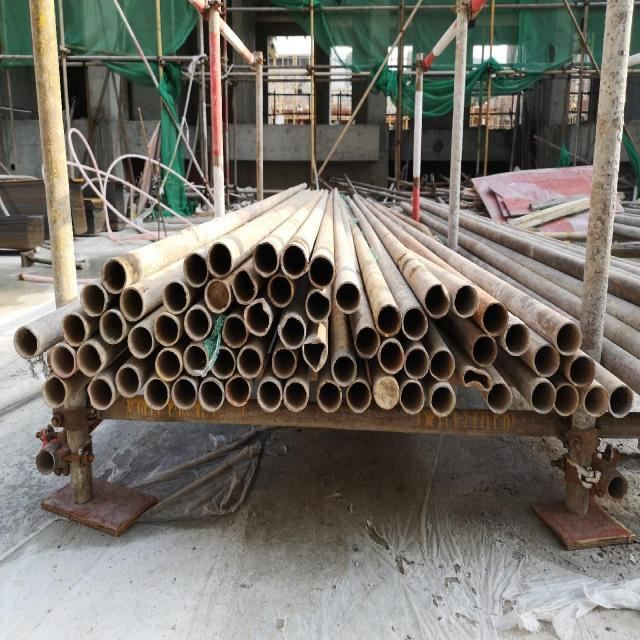pipe: (276, 311, 306, 350), (280, 242, 310, 280), (242, 298, 270, 338), (152, 346, 182, 383), (566, 352, 596, 389), (230, 266, 258, 305), (78, 281, 108, 317), (206, 239, 233, 279), (99, 257, 128, 294), (376, 336, 404, 374), (74, 341, 104, 376), (48, 341, 76, 378), (126, 322, 154, 359), (203, 277, 231, 314), (183, 305, 211, 342), (220, 312, 248, 349), (301, 337, 329, 374), (502, 320, 530, 357), (196, 377, 225, 412), (402, 303, 428, 342), (39, 372, 67, 408), (60, 311, 88, 347), (141, 375, 169, 411), (152, 312, 180, 348), (181, 341, 209, 377), (250, 241, 278, 277), (344, 378, 372, 414), (532, 342, 560, 378), (528, 378, 556, 414), (554, 320, 582, 356), (98, 308, 125, 345), (308, 253, 335, 290), (424, 282, 451, 319), (481, 300, 508, 337), (399, 377, 425, 415), (85, 375, 114, 409), (11, 325, 39, 360), (114, 363, 142, 398), (161, 279, 189, 314), (266, 273, 294, 308), (236, 344, 264, 379), (304, 288, 332, 323), (314, 379, 342, 414), (402, 345, 430, 380), (428, 383, 456, 418), (452, 283, 480, 318), (470, 333, 498, 368), (485, 379, 513, 414), (372, 375, 399, 411), (333, 279, 361, 313), (374, 304, 402, 338), (428, 347, 456, 381), (255, 377, 282, 412), (118, 286, 144, 322), (182, 252, 208, 288), (283, 377, 309, 413), (330, 351, 356, 387), (353, 324, 379, 360), (270, 346, 298, 379), (582, 384, 610, 417), (209, 344, 235, 379), (459, 366, 494, 392), (608, 383, 634, 418), (224, 374, 252, 406), (552, 381, 578, 415), (171, 376, 197, 409), (605, 472, 631, 503), (34, 447, 57, 480)
